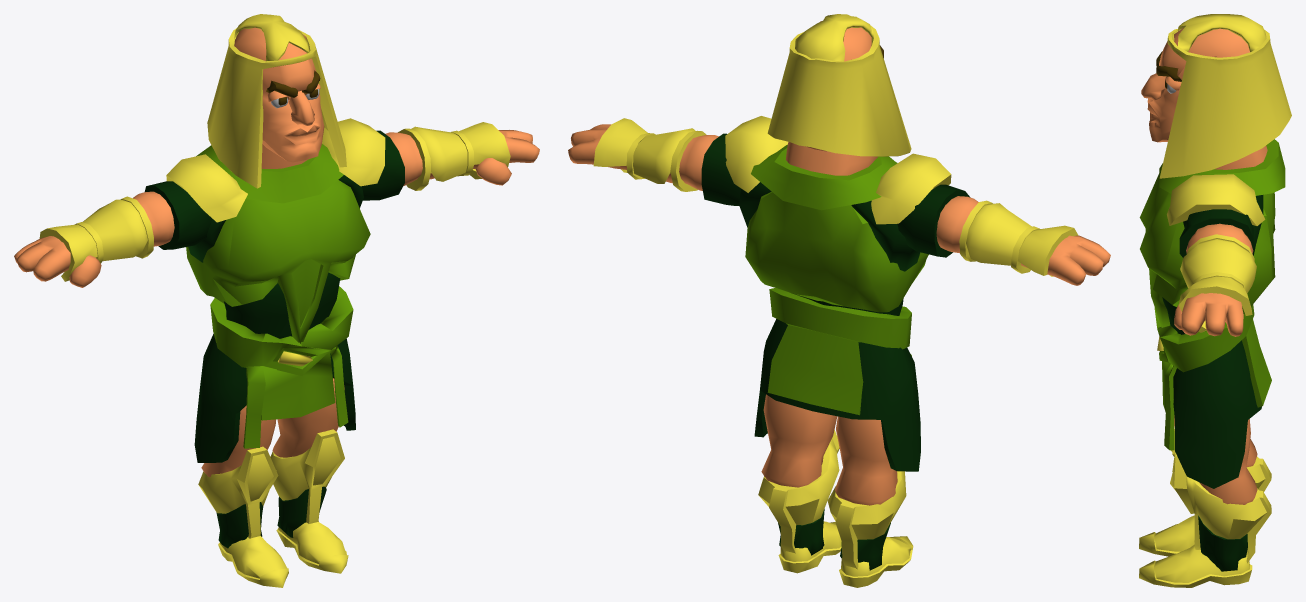
The model's file is remetch-warrior3.glb.
The picture shows the model from 3 angles, left to right: view 1: azimuth 30°, elevation 25°; view 2: azimuth 150°, elevation 25°; view 3: azimuth 270°, elevation 25°; orthographic projection. The views are drawn at different scales.
Visible parts, largest first — view 1: armor, belt, cape, close, Head, bracer1, bracer2, knee_pad1, knee_pad2, collar, shoulder_pad1, Shirt (+13 smaller); view 2: cape, armor, belt, close, bracer1, leg2, collar, bracer2, leg1, knee_pad2, shoulder_pad1, knee_pad1 (+13 smaller); view 3: cape, close, armor, belt, bracer2, knee_pad2, Head, shoulder_pad2, foot2, palm2, collar, shin2 (+9 smaller).
Boxes of the visible parts, <box> form: armor: <box>186,180,370,343</box>; belt: <box>210,286,353,448</box>; cape: <box>207,14,346,188</box>; close: <box>194,334,355,462</box>; Head: <box>234,27,324,168</box>; bracer1: <box>39,196,153,281</box>; bracer2: <box>398,122,510,190</box>; knee_pad1: <box>198,446,278,538</box>; knee_pad2: <box>270,429,344,523</box>; collar: <box>196,144,343,203</box>; shoulder_pad1: <box>166,154,247,222</box>; Shirt: <box>224,272,340,338</box>; cape: <box>767,14,911,156</box>; armor: <box>745,191,928,312</box>; belt: <box>767,288,911,415</box>; close: <box>754,319,920,471</box>; bracer1: <box>959,200,1078,276</box>; leg2: <box>761,394,837,487</box>; collar: <box>751,144,897,210</box>; bracer2: <box>593,118,706,191</box>; leg1: <box>835,416,897,505</box>; knee_pad2: <box>758,430,839,553</box>; shoulder_pad1: <box>871,153,951,224</box>; knee_pad1: <box>827,471,906,569</box>; cape: <box>1159,14,1291,178</box>; close: <box>1173,340,1261,488</box>; armor: <box>1139,173,1275,327</box>; belt: <box>1154,304,1271,450</box>; bracer2: <box>1178,234,1256,332</box>; knee_pad2: <box>1170,452,1271,563</box>; Head: <box>1147,28,1267,169</box>; shoulder_pad2: <box>1167,174,1265,225</box>; foot2: <box>1139,544,1252,587</box>; palm2: <box>1174,293,1243,336</box>; collar: <box>1159,139,1285,195</box>; shin2: <box>1198,515,1247,571</box>.
Size of the model in its own units: 20.32 by 20.04 by 5.09.
